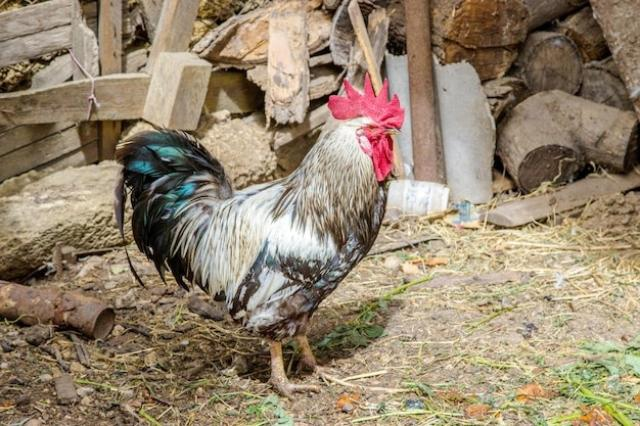Chicken: (115, 74, 404, 401)
